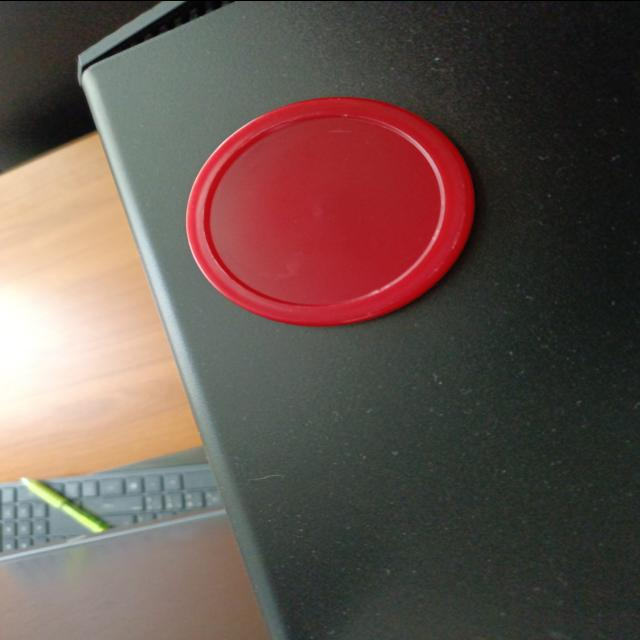chip: (185, 93, 474, 325)
